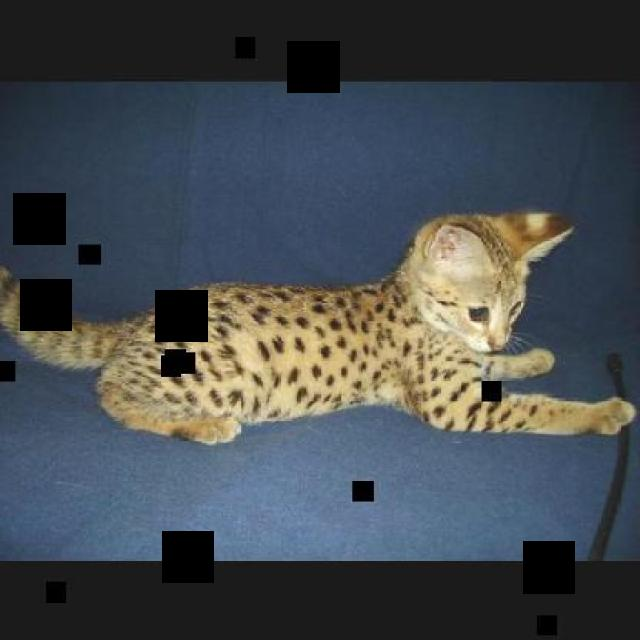unauthorized: (0, 209, 638, 444)
